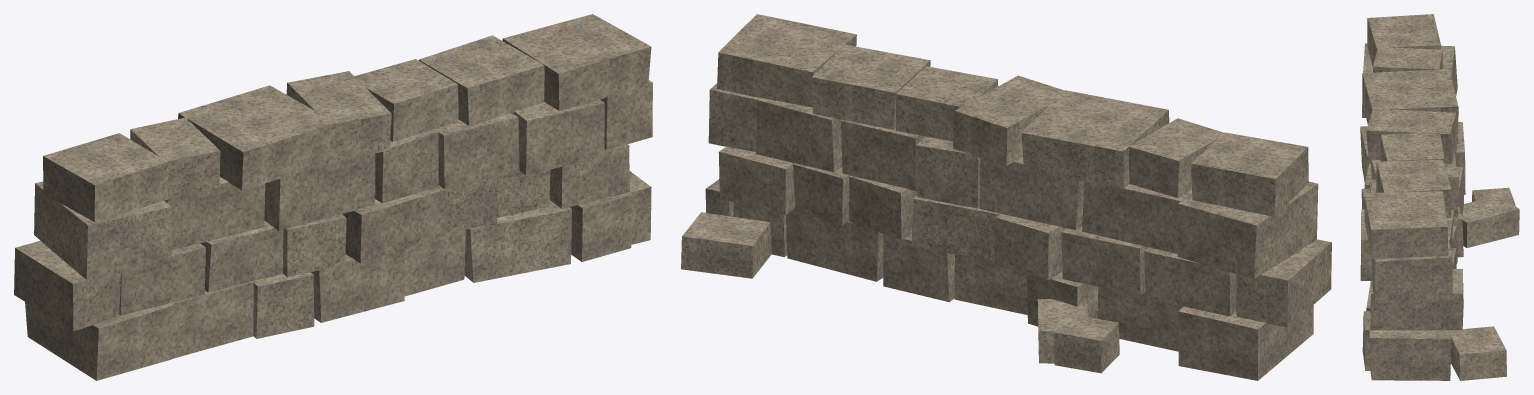
The model's file is drywall2.glb.
The picture shows the model from 3 angles, left to right: view 1: azimuth 30°, elevation 25°; view 2: azimuth 150°, elevation 25°; view 3: azimuth 270°, elevation 25°; orthographic projection. The views are drawn at different scales.
Visible parts, largest first — view 1: drywall2; view 2: drywall2; view 3: drywall2.
Part boxes in pixels (<box>): drywall2: <box>14,14,652,380</box>; drywall2: <box>681,14,1331,380</box>; drywall2: <box>1360,14,1519,380</box>.
Bounding box in the file's own units: 2.63 × 0.8249 × 0.7881.
Materials: 1 (1 with a texture image).
